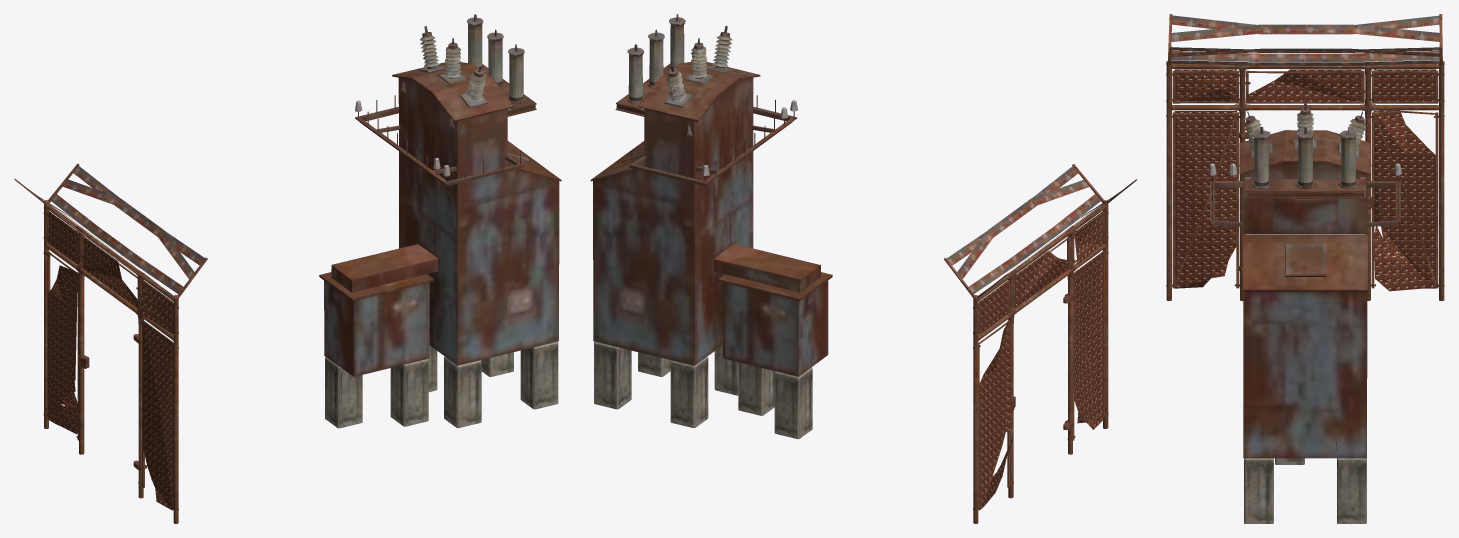
The model's file is power_sub_small_2-map.glb.
3 renders of one model, left to right at view 1: azimuth 30°, elevation 25°; view 2: azimuth 150°, elevation 25°; view 3: azimuth 270°, elevation 25°, orthographic. The views are drawn at different scales.
Visible parts, largest first — view 1: substation_a_LOD0, chainlink_fence_3x3_gate_LOD0; view 2: substation_a_LOD0, chainlink_fence_3x3_gate_LOD0; view 3: substation_a_LOD0, chainlink_fence_3x3_gate_LOD0.
Boxes of the visible parts, x1=… form: substation_a_LOD0: x1=319, y1=14, x2=561, y2=428; chainlink_fence_3x3_gate_LOD0: x1=14, y1=163, x2=207, y2=523; substation_a_LOD0: x1=590, y1=14, x2=832, y2=439; chainlink_fence_3x3_gate_LOD0: x1=944, y1=164, x2=1137, y2=523; substation_a_LOD0: x1=1208, y1=102, x2=1401, y2=523; chainlink_fence_3x3_gate_LOD0: x1=1166, y1=14, x2=1444, y2=301.
Bounding box in the file's own units: 5.94 × 4.54 × 3.
Materials: 4 (4 with a texture image).
